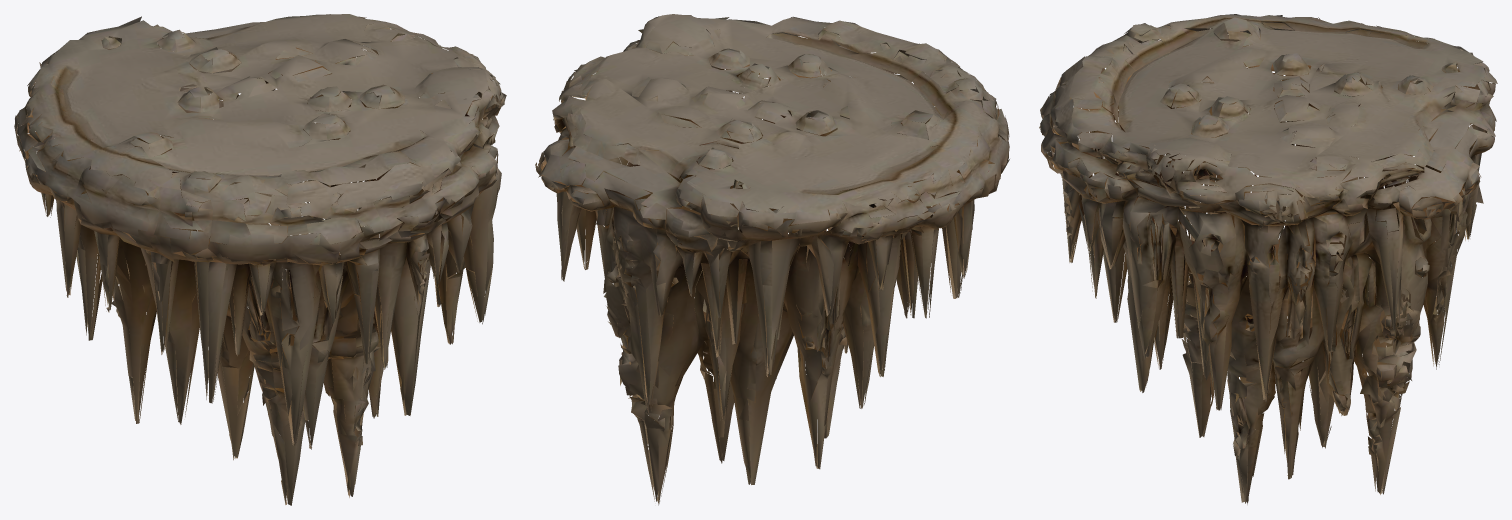
File: cav_stalactite_ceiling_cluster_LOD1.glb
The picture shows the model from 3 angles, left to right: view 1: azimuth 30°, elevation 25°; view 2: azimuth 150°, elevation 25°; view 3: azimuth 270°, elevation 25°; orthographic projection. The views are drawn at different scales.
Visible parts, largest first — view 1: tripo_node_cf9095d3-c141-4859-948e-a06c82a533c3; view 2: tripo_node_cf9095d3-c141-4859-948e-a06c82a533c3; view 3: tripo_node_cf9095d3-c141-4859-948e-a06c82a533c3.
Part boxes in pixels (x1,y1,x2,y2): tripo_node_cf9095d3-c141-4859-948e-a06c82a533c3: (14, 14, 506, 505); tripo_node_cf9095d3-c141-4859-948e-a06c82a533c3: (535, 14, 1009, 505); tripo_node_cf9095d3-c141-4859-948e-a06c82a533c3: (1039, 14, 1497, 504).
Bounding box in the file's own units: 1.01 × 0.9473 × 0.9907.
1 material, 1 textured.
